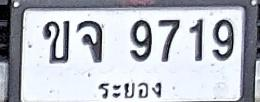1: (189, 18, 203, 61)
7: (158, 18, 180, 62)
9: (212, 19, 234, 60), (130, 19, 151, 61)
A02: (42, 20, 70, 63)
A08: (76, 20, 102, 62)
RYG: (93, 78, 170, 102)
